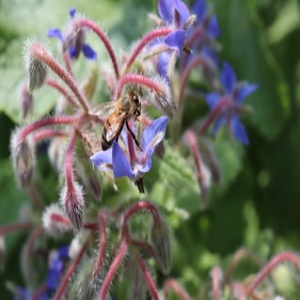bee: (87, 89, 146, 155)
